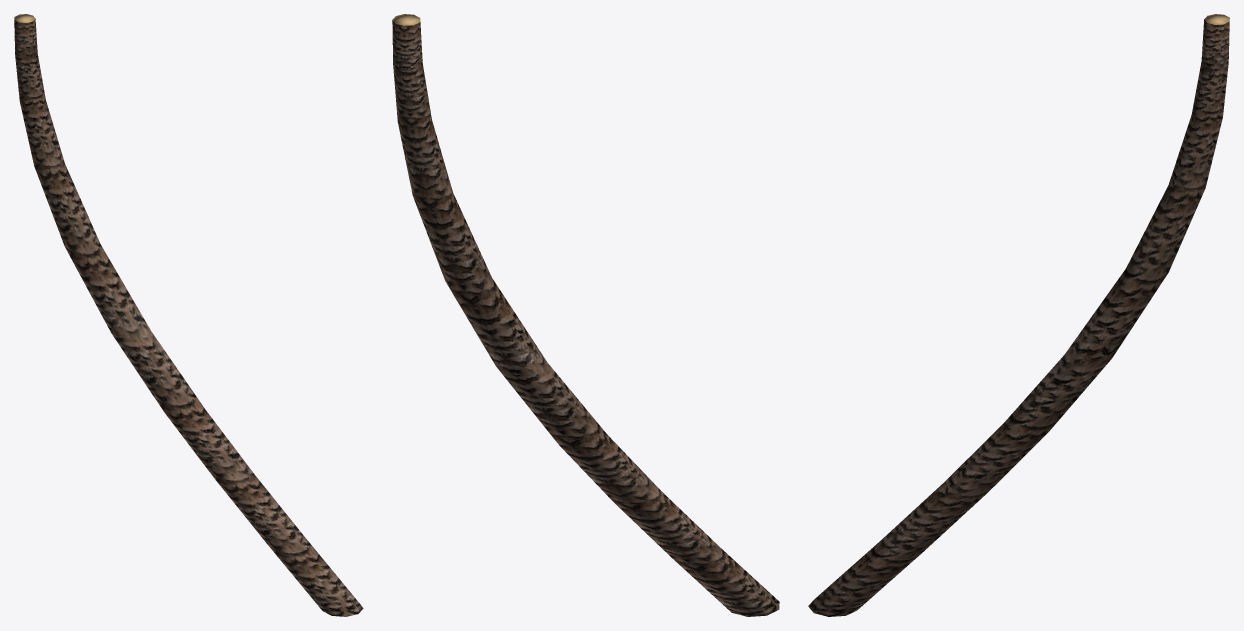
Rendered from Palm4MeshShape.dae.
The picture shows the model from 3 angles, left to right: view 1: azimuth 90°, elevation 25°; view 2: azimuth 150°, elevation 25°; view 3: azimuth 270°, elevation 25°; orthographic projection. The views are drawn at different scales.
Parts seen in each view (by area): view 1: Palm4Mesh; view 2: Palm4Mesh; view 3: Palm4Mesh.
Part boxes in pixels (<box>): Palm4Mesh: <box>14,14,363,616</box>; Palm4Mesh: <box>392,14,779,616</box>; Palm4Mesh: <box>808,14,1229,616</box>.
Size of the model in its own units: 5 by 19.28 by 11.35.
